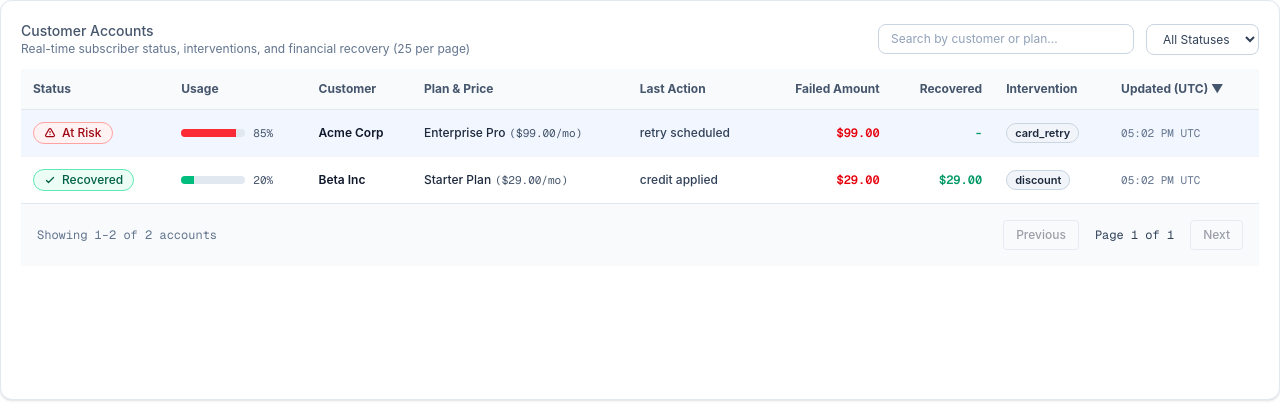
Test: Checkpoint D — Dashboard Panels Component Tests › CustomersTable › filters rows dynamically by search input (name or plan)
This screenshot has width=1280, height=418.
Type "Enterprise" into the field with placeholder "Search by customer or plan...". click: (1006, 39)
box: x1=878 y1=24 x2=1134 y2=54
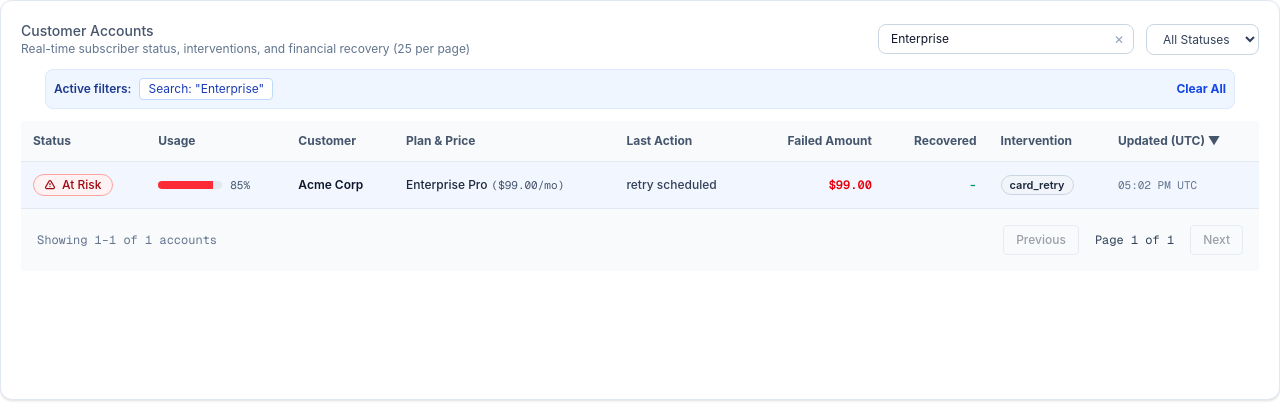
Expected: the text "Acme Corp" is shown, x1=286 y1=162 x2=394 y2=208
Expected: the text "Beta Inc" is gone
